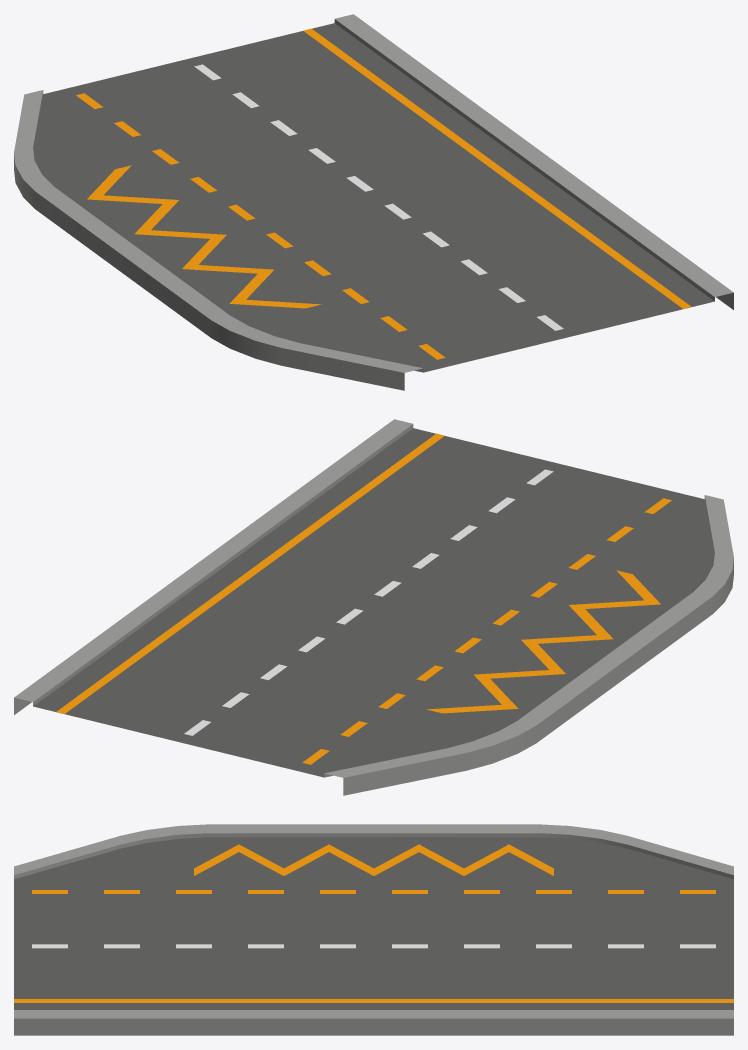
Rendered from Road_B_4.fbx.
3 views of the same model, one above another, from view 1: azimuth 30°, elevation 25°; view 2: azimuth 150°, elevation 25°; view 3: azimuth 270°, elevation 25° (orthographic). The views are drawn at different scales.
Parts seen in each view (by area): view 1: Road_B_4; view 2: Road_B_4; view 3: Road_B_4.
Boxes of the visible parts, left/top/right/bottom form: Road_B_4: left=14, top=14, right=733, bottom=390; Road_B_4: left=14, top=419, right=733, bottom=795; Road_B_4: left=14, top=824, right=733, bottom=1035.
Bounding box in the file's own units: 1021 × 41.48 × 1600.
